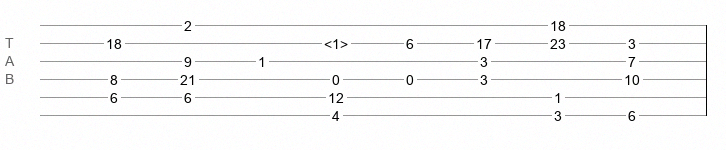0: (332, 72, 340, 82), (406, 72, 414, 82)
1: (258, 54, 266, 64), (554, 90, 562, 100)
10: (624, 72, 640, 82)
12: (328, 90, 344, 100)
17: (476, 36, 492, 46)
18: (106, 36, 122, 46), (550, 18, 566, 28)
2: (184, 18, 192, 28)
21: (180, 72, 196, 82)
23: (550, 36, 566, 46)
3: (480, 72, 488, 82), (480, 54, 488, 64), (554, 108, 562, 118), (628, 36, 636, 46)
4: (332, 108, 340, 118)
6: (110, 90, 118, 100), (184, 90, 192, 100), (406, 36, 414, 46), (628, 108, 636, 118)
7: (628, 54, 636, 64)
8: (110, 72, 118, 82)
9: (184, 54, 192, 64)
harmonic: (324, 36, 348, 46)
